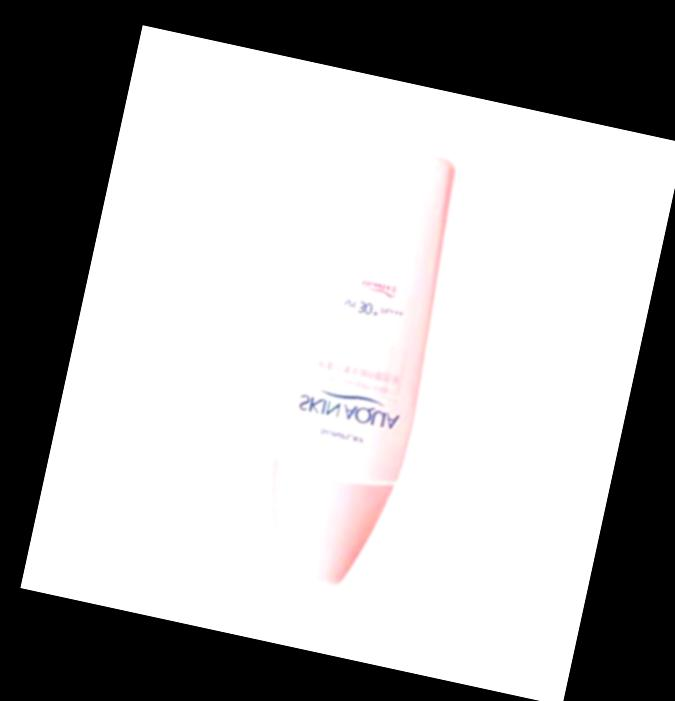cosmetic: (248, 131, 469, 598)
